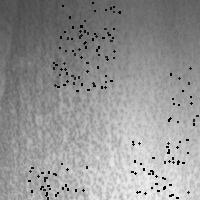pitted_surface: (1, 1, 193, 196), (53, 31, 113, 90), (131, 139, 187, 197), (59, 2, 119, 56), (28, 163, 86, 200), (168, 67, 200, 125)
